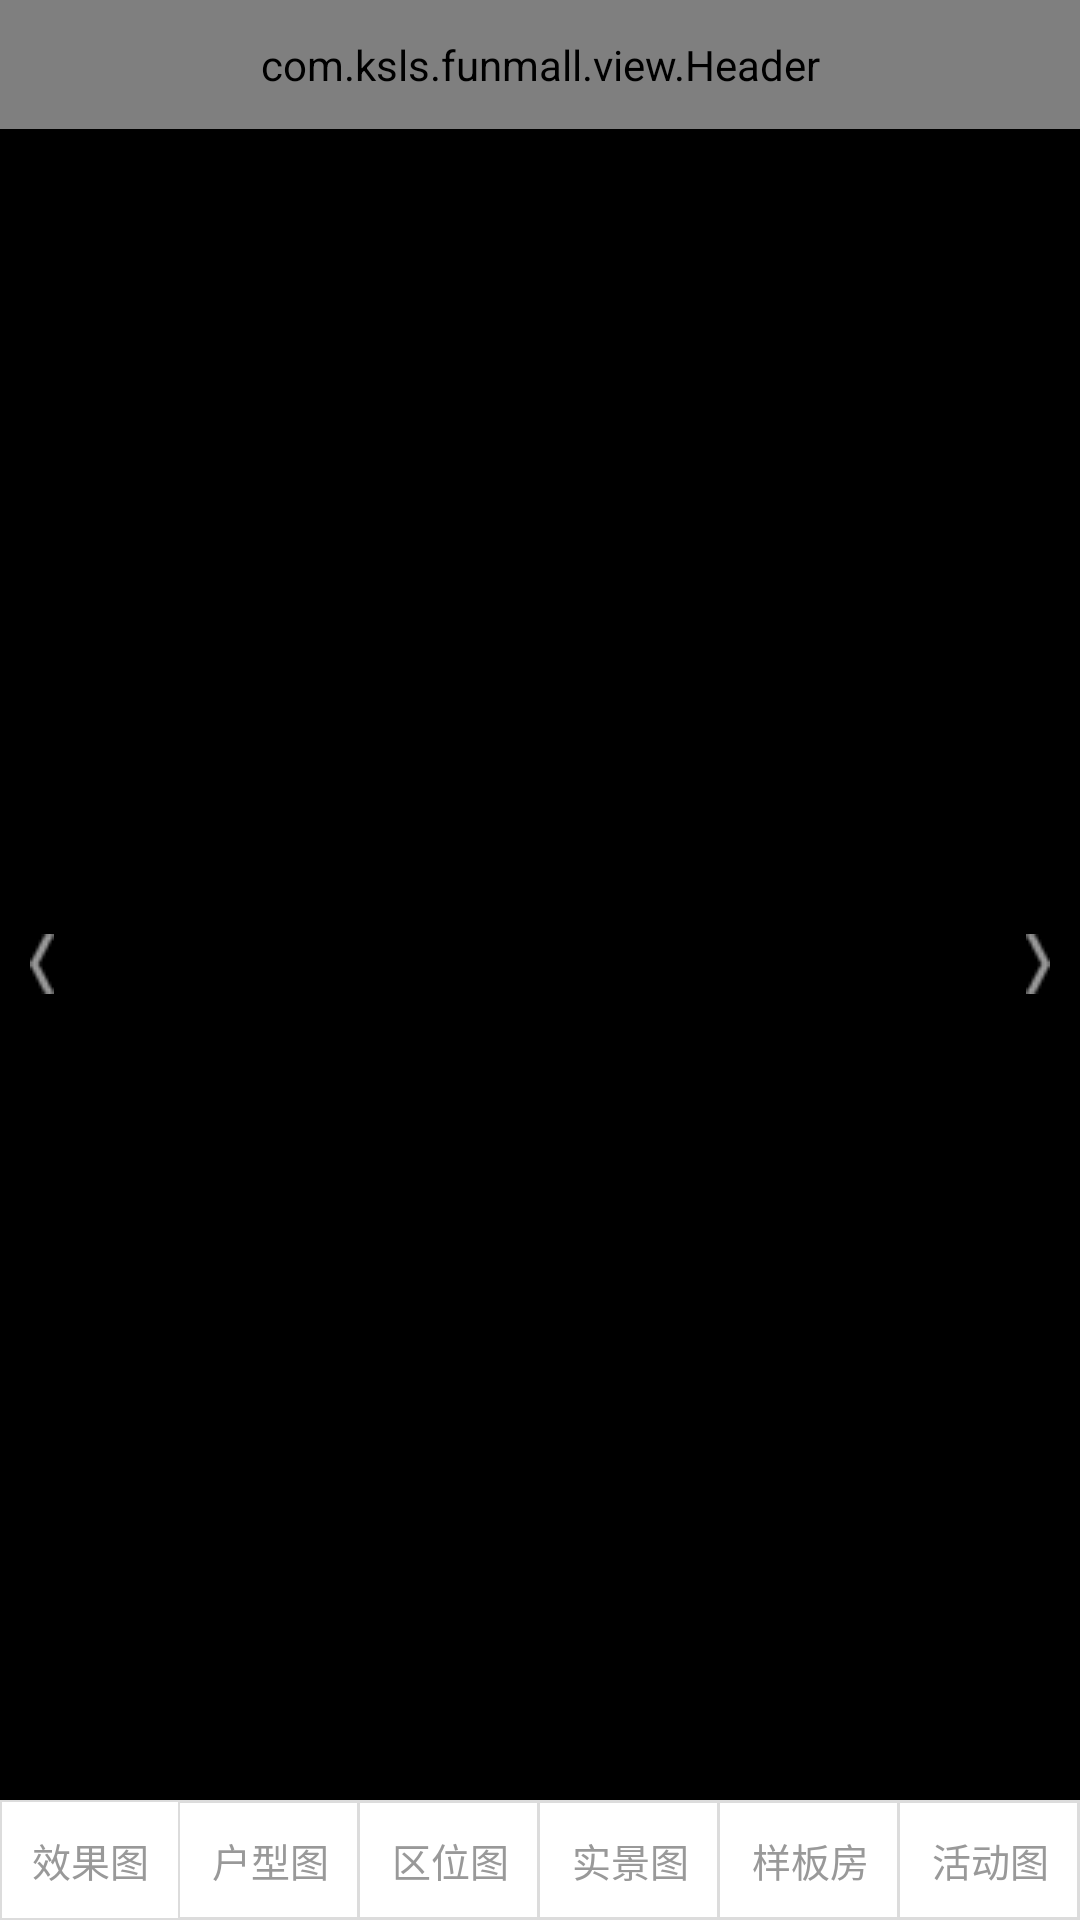

Icons on this 1080w x 1920h Android screen, each with its box as (x1, y1, x2, y2):
vpage turn left: (30, 934, 54, 994)
vpage turn right: (1026, 934, 1050, 994)
